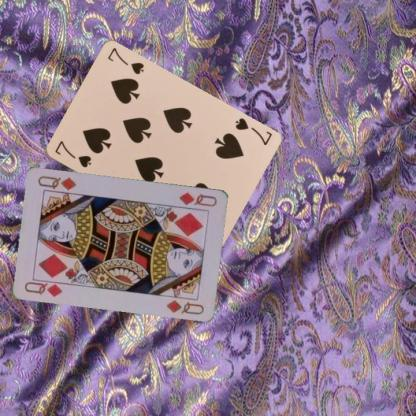7s: (232, 115, 273, 147), (52, 138, 92, 169)
Qd: (22, 276, 68, 298), (177, 189, 218, 208)
